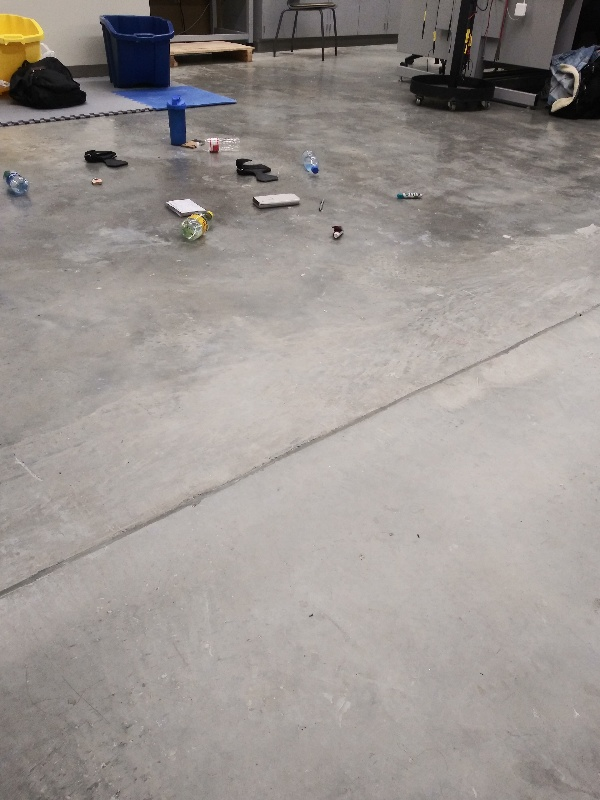bottle: (178, 208, 215, 243), (191, 137, 244, 157), (1, 166, 31, 197), (299, 149, 320, 176)
